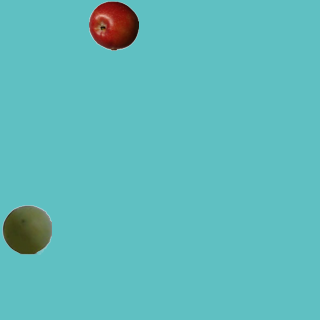Apple Braeburn: (88, 0, 138, 50)
Grape White 4: (1, 204, 51, 254)
